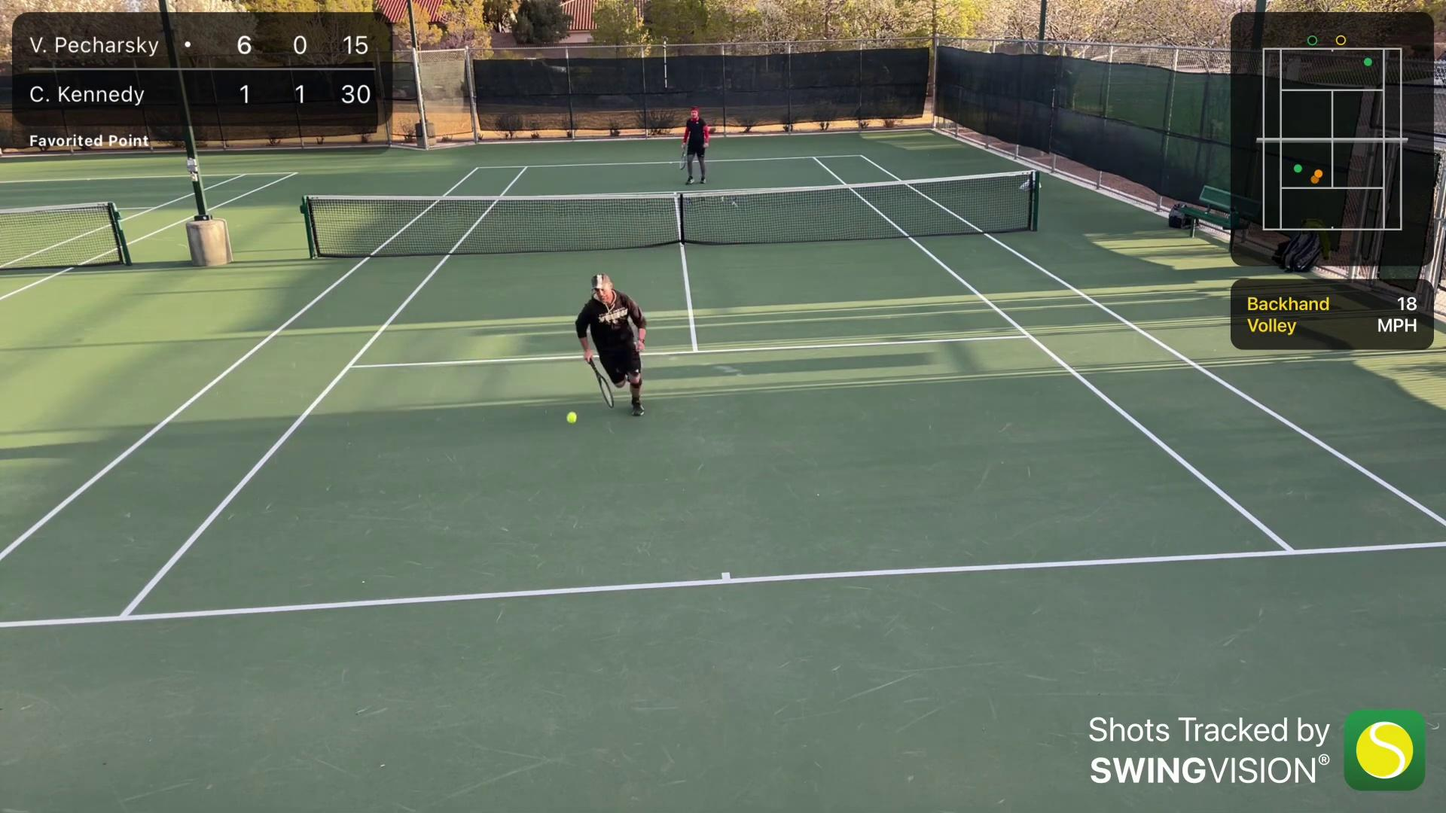ball: (562, 411, 582, 426)
